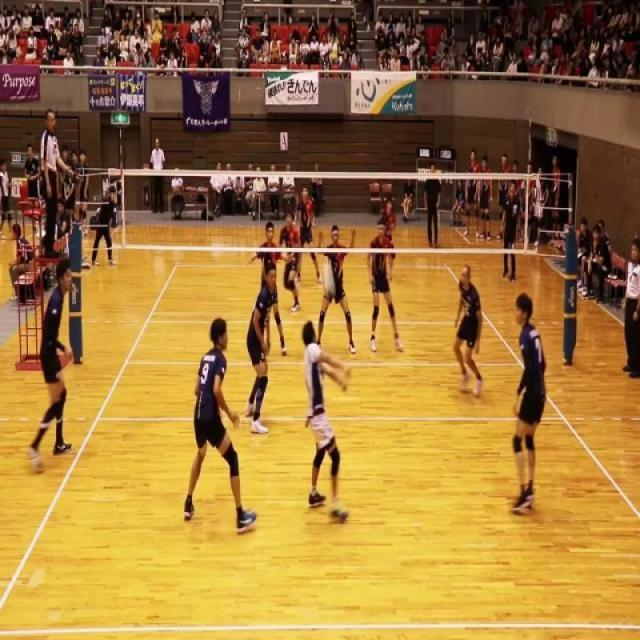volleyball: (322, 261, 336, 299)
